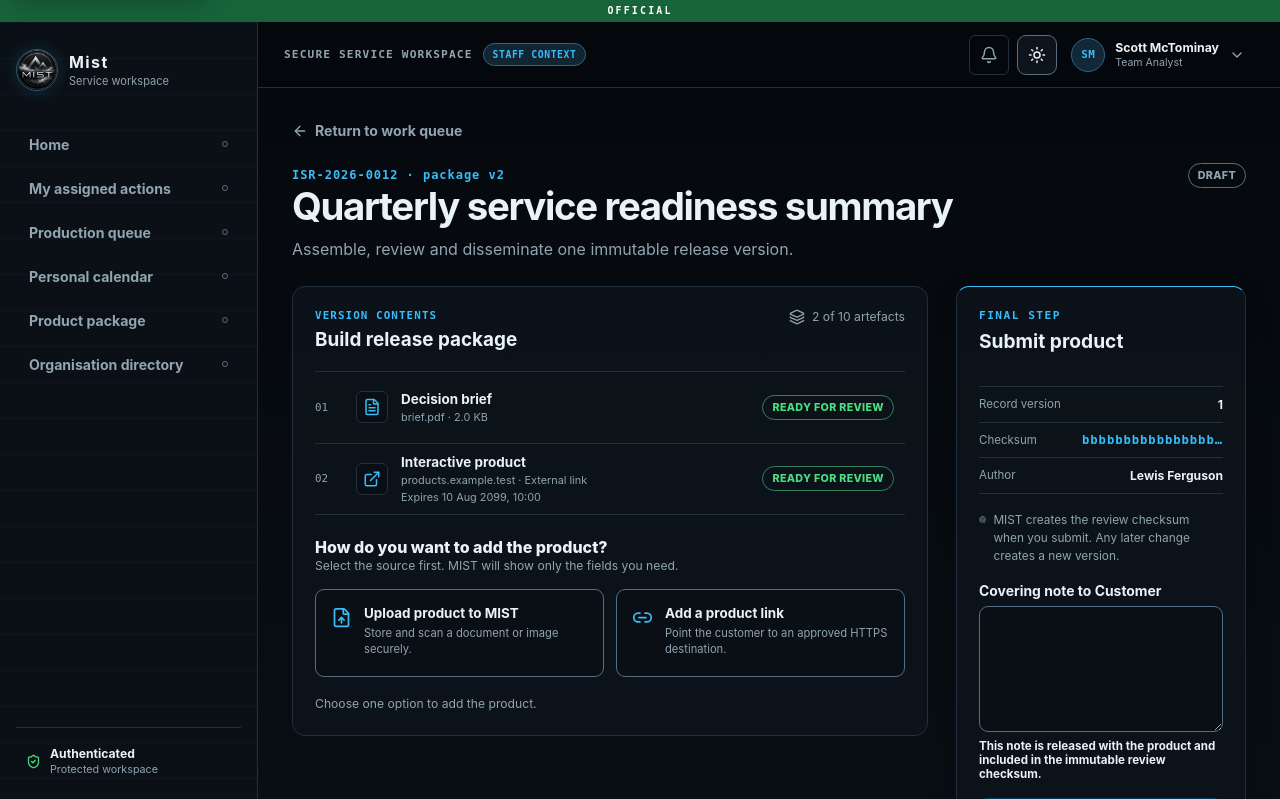
managed product authoring journey › records the DELIVERY_SPECIALIST exact-version decision
Type "Synthetic covering note for the Customer." into the text box labelled "Covering note to Customer" at (1101, 669), box top-left (979, 606), bottom-right (1223, 732)
(page scrolled)
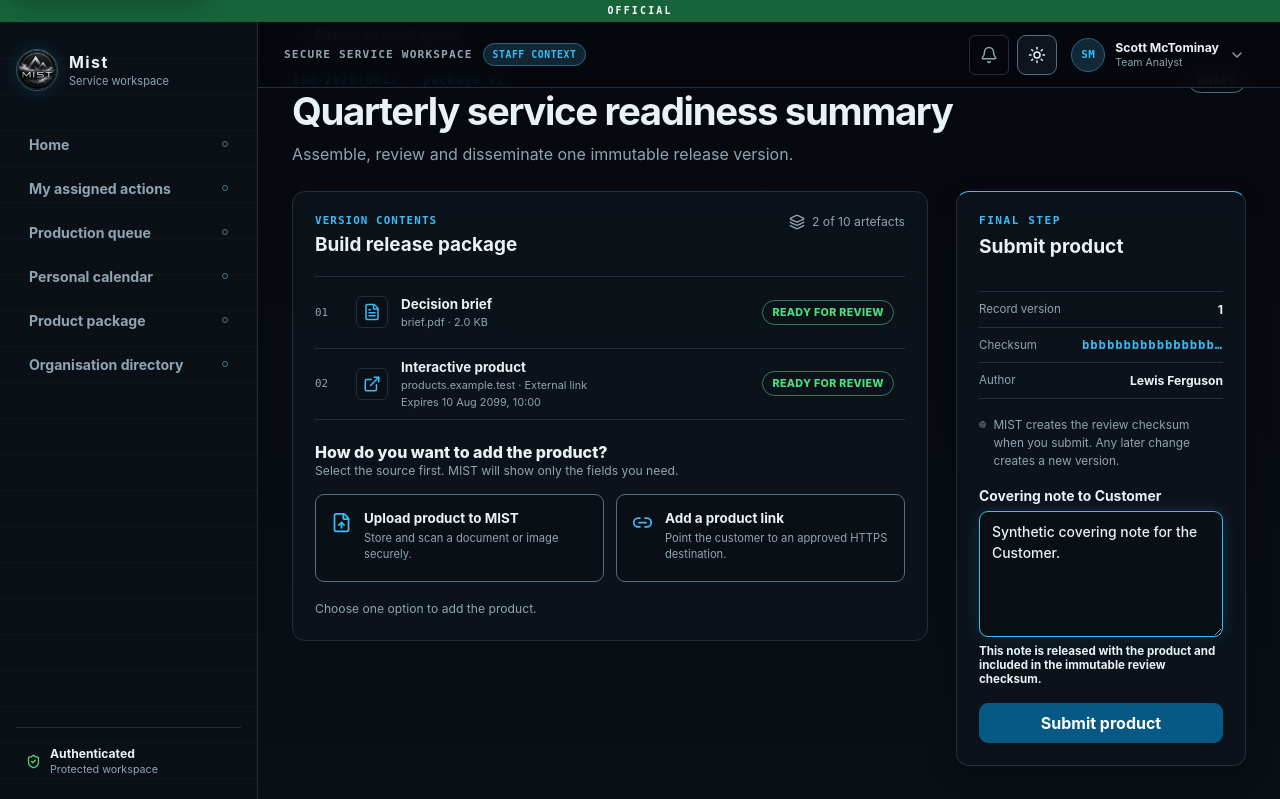
Click the button "Submit product" at (1101, 723), box top-left (979, 703), bottom-right (1223, 743)
(page scrolled)
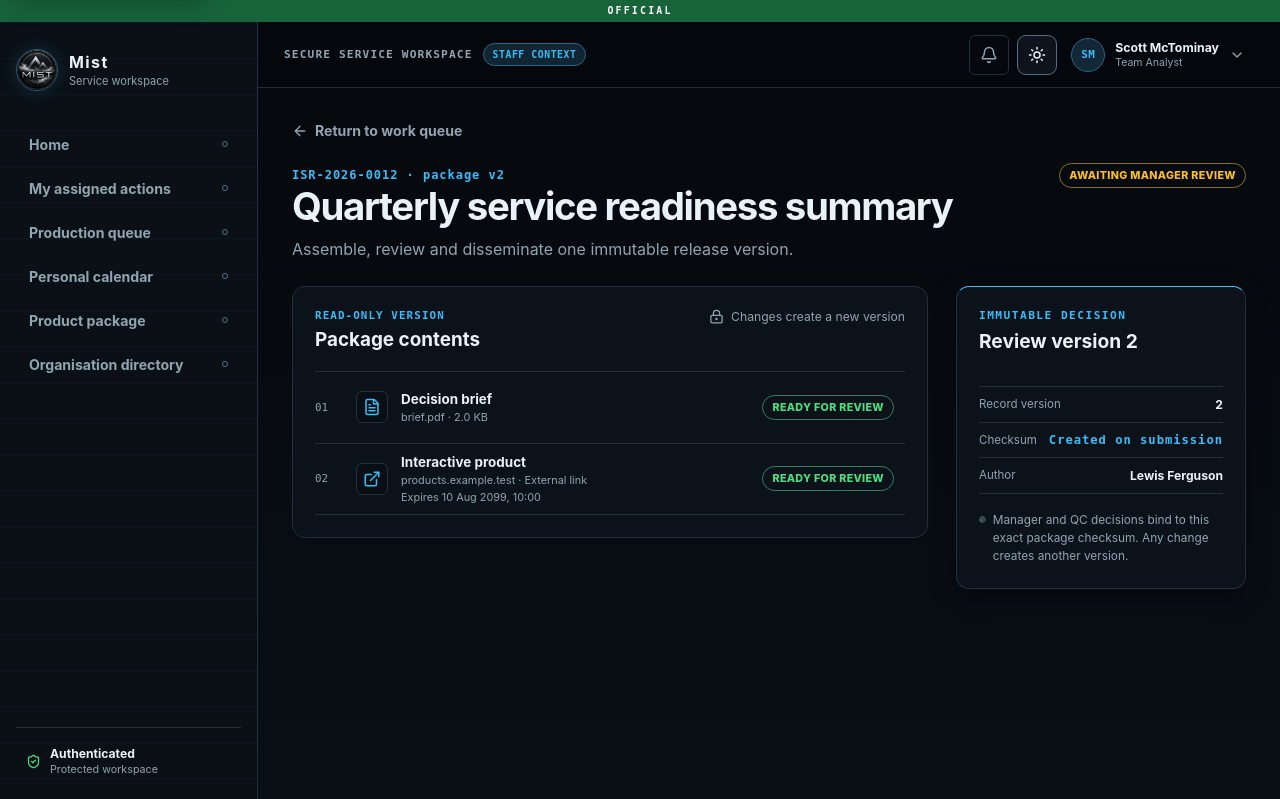
Check: the text "Awaiting Manager review" is shown, box top-left (1059, 163), bottom-right (1246, 188)
